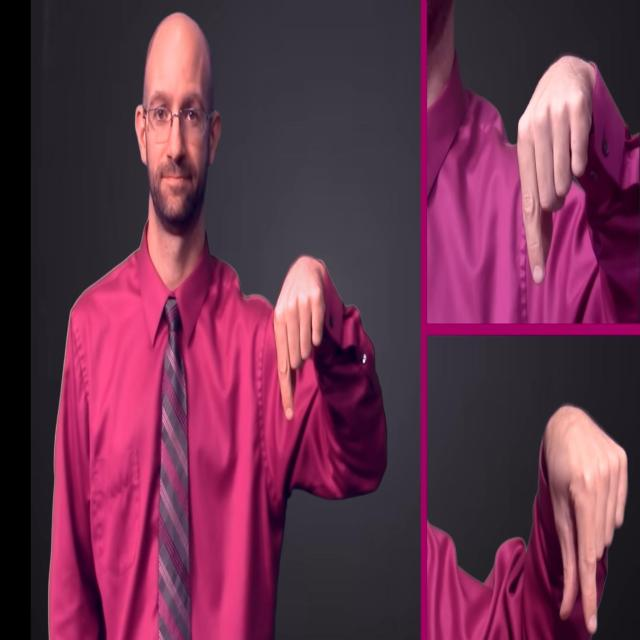Q: (542, 402, 630, 636), (514, 51, 596, 287), (272, 252, 328, 422)
